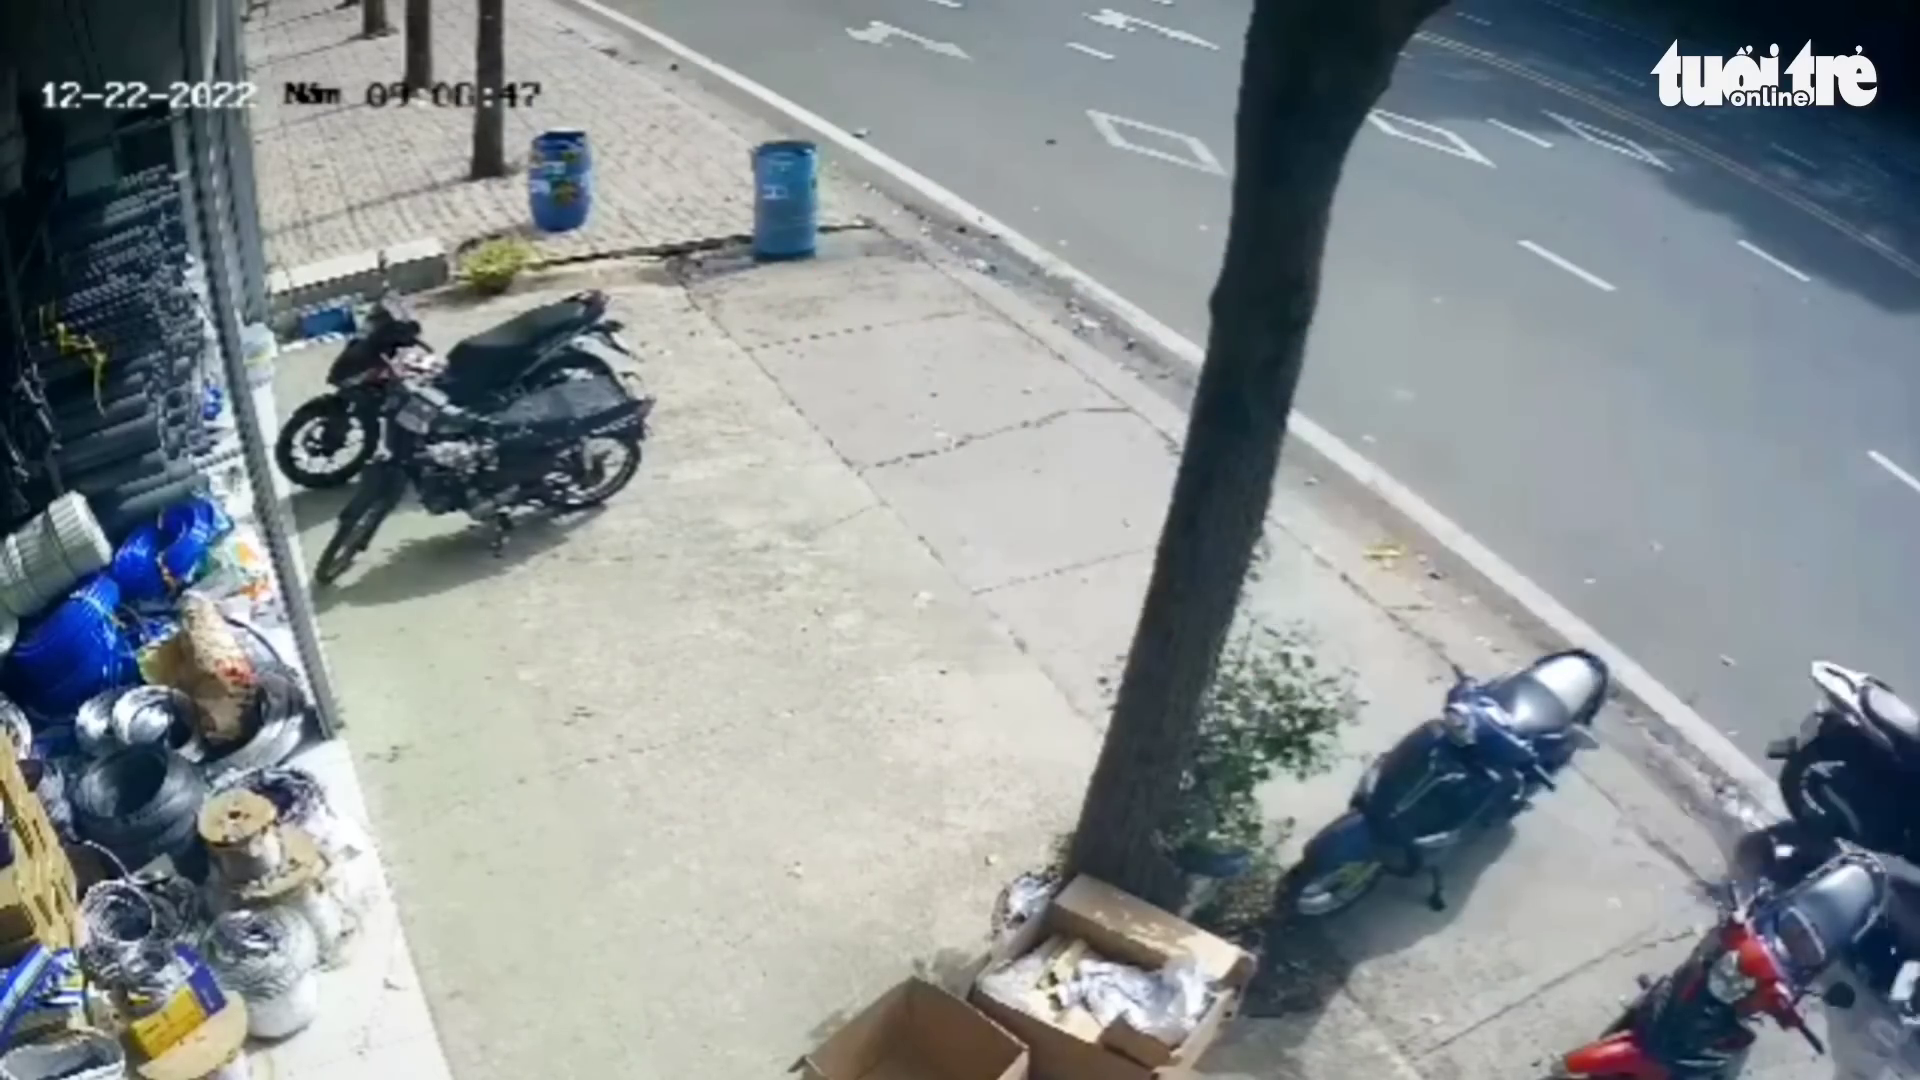Motorcycle: (1557, 658, 1919, 1069), (273, 256, 655, 588), (1559, 832, 1919, 1076), (1288, 647, 1611, 919), (1764, 659, 1920, 866)
